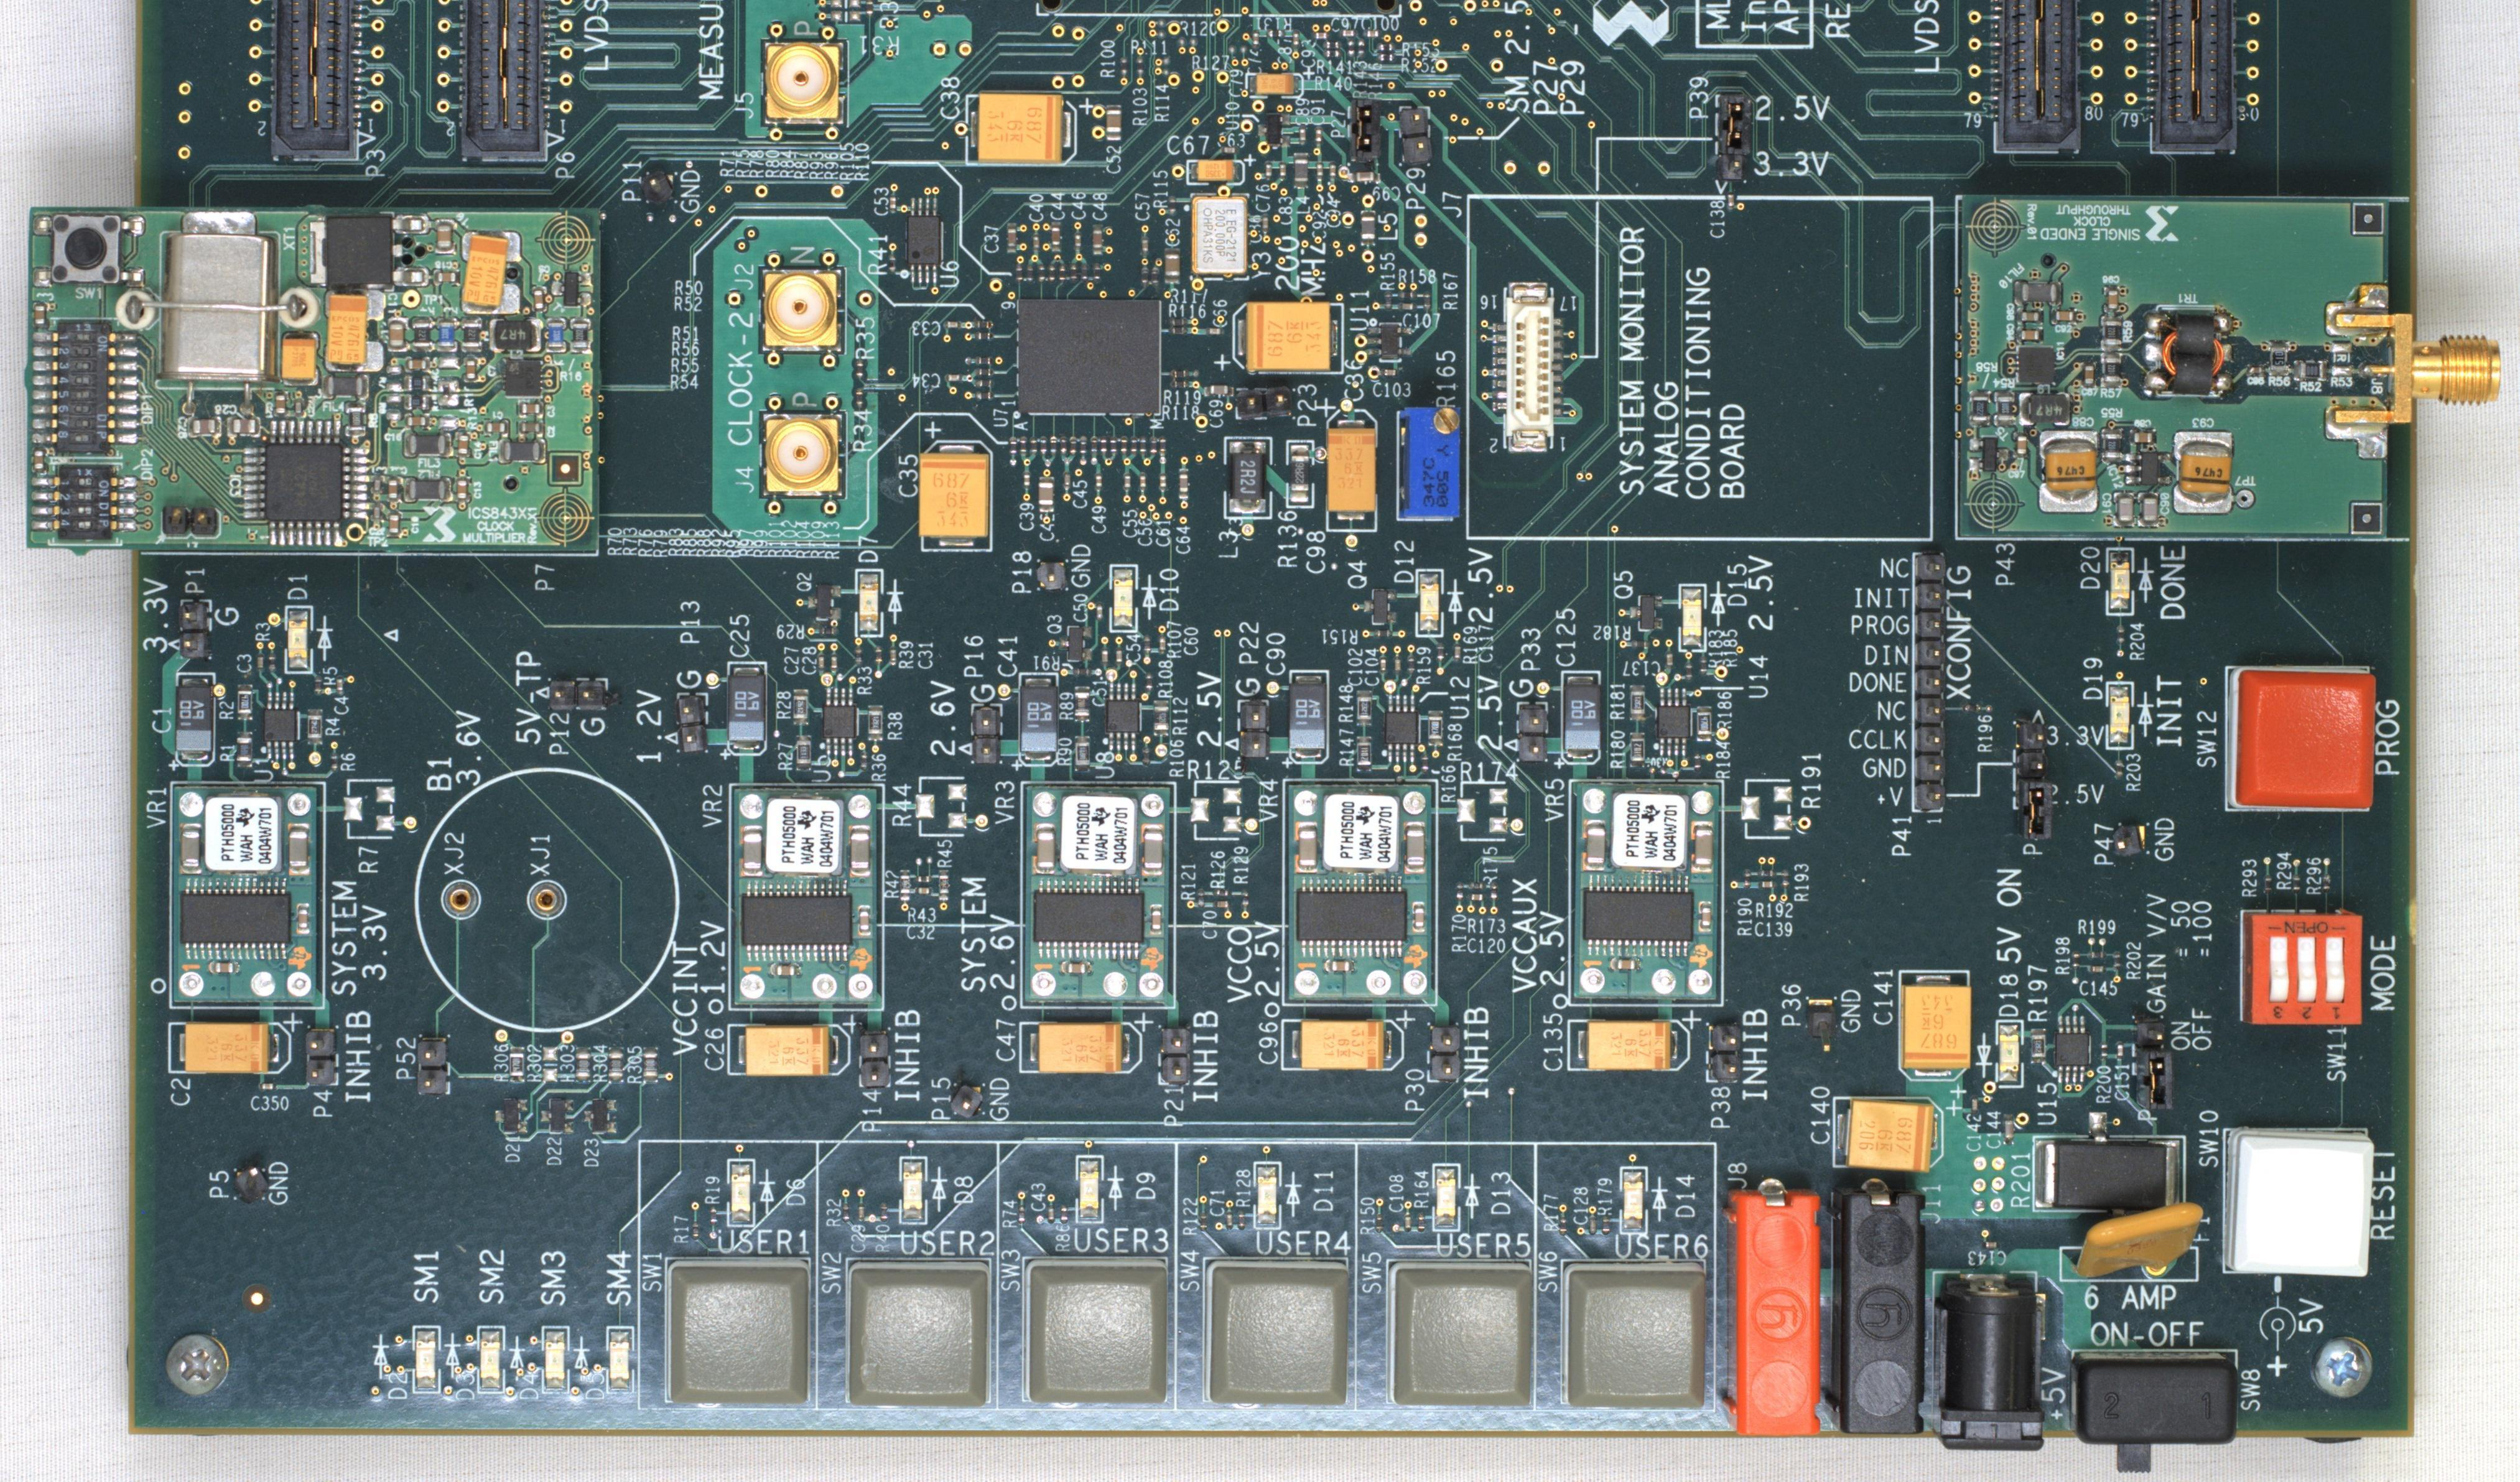Button: (2222, 1127, 2377, 1281), (2224, 665, 2377, 815), (1558, 1256, 1706, 1408), (1020, 1254, 1168, 1404), (1202, 1254, 1348, 1406), (664, 1256, 812, 1404), (845, 1256, 992, 1406), (1385, 1258, 1532, 1406), (32, 213, 145, 288)
Capacitor Jumper: (1140, 824, 1165, 875), (1403, 820, 1426, 875), (1691, 820, 1714, 873), (1583, 819, 1606, 870), (288, 824, 311, 875), (739, 826, 762, 877), (1032, 822, 1054, 875), (1295, 822, 1316, 873), (180, 824, 201, 875), (849, 826, 870, 877), (2112, 490, 2135, 528), (434, 219, 457, 254), (2137, 492, 2160, 528), (388, 316, 409, 353), (189, 415, 222, 438), (226, 416, 259, 438), (1105, 104, 1122, 141), (1163, 249, 1181, 284), (1038, 475, 1054, 513), (1324, 958, 1355, 974), (208, 960, 240, 976), (769, 962, 801, 977), (2102, 286, 2119, 314), (2015, 326, 2044, 344), (2012, 430, 2029, 459), (531, 286, 549, 312), (2015, 307, 2042, 325), (517, 400, 544, 418), (1698, 900, 1712, 932), (1149, 902, 1163, 933), (296, 903, 311, 935), (1059, 962, 1091, 976), (1348, 171, 1380, 185), (32, 446, 48, 475), (434, 270, 459, 288), (484, 420, 508, 438), (858, 905, 872, 935), (2051, 309, 2077, 325), (464, 356, 480, 383), (2081, 362, 2096, 388), (404, 413, 431, 429), (517, 420, 544, 436), (386, 512, 402, 538), (1611, 958, 1639, 972), (275, 390, 289, 418), (455, 430, 469, 459), (386, 476, 401, 505), (455, 476, 469, 505), (1414, 902, 1426, 933), (1050, 221, 1062, 252), (406, 356, 431, 372), (34, 302, 48, 328), (2130, 430, 2156, 445), (1204, 385, 1234, 397), (2003, 1113, 2014, 1145), (1006, 222, 1016, 254), (1092, 224, 1103, 256), (1179, 469, 1189, 499), (371, 475, 383, 494), (371, 501, 383, 520), (1313, 125, 1324, 146), (258, 1082, 277, 1092), (295, 399, 305, 418), (1158, 633, 1166, 656), (1452, 642, 1461, 663), (335, 674, 344, 695), (1969, 1094, 1978, 1115), (1588, 1214, 1597, 1235), (1982, 1240, 1999, 1251), (1278, 161, 1286, 182), (1264, 161, 1272, 182), (1073, 231, 1082, 252), (2246, 365, 2264, 376), (944, 372, 962, 383), (1664, 651, 1673, 670), (829, 653, 838, 672), (256, 653, 265, 672), (1392, 656, 1401, 676), (1758, 880, 1777, 889), (1466, 893, 1486, 902), (1212, 900, 1232, 909), (858, 1201, 866, 1221), (1046, 1203, 1055, 1223), (1297, 125, 1306, 145), (1726, 191, 1735, 210), (1380, 369, 1399, 378), (1062, 471, 1071, 490), (1122, 473, 1131, 492), (1219, 146, 1237, 155), (1140, 238, 1149, 256), (1362, 28, 1380, 37), (1339, 30, 1357, 39), (1292, 30, 1301, 48), (1138, 473, 1147, 490), (1094, 473, 1103, 490), (1158, 473, 1166, 490), (889, 646, 896, 667), (2086, 965, 2107, 972), (1226, 1210, 1234, 1231), (1405, 1212, 1412, 1233), (1316, 161, 1324, 182), (1262, 213, 1269, 235), (1032, 231, 1039, 252), (1398, 303, 1419, 311), (1313, 30, 1329, 39), (1251, 30, 1260, 46), (1115, 646, 1122, 665), (1101, 647, 1108, 667), (817, 653, 824, 672), (1380, 656, 1387, 676), (912, 887, 932, 894), (2116, 1041, 2123, 1060), (1329, 161, 1336, 180), (889, 194, 896, 213), (1024, 469, 1031, 489), (1096, 602, 1103, 621), (942, 321, 960, 328), (1205, 328, 1223, 335)
Clock: (159, 210, 282, 416), (1189, 192, 1249, 281)
Connector: (2324, 281, 2504, 464), (1826, 1175, 1925, 1434), (1722, 1179, 1821, 1436), (1931, 1269, 2045, 1452), (1493, 282, 1564, 453), (1911, 552, 1945, 813), (759, 263, 847, 356), (759, 409, 847, 499), (761, 39, 849, 127), (1398, 106, 1435, 168), (547, 677, 611, 713), (674, 692, 709, 755), (178, 598, 214, 660), (1235, 699, 1271, 760), (971, 702, 1004, 764), (1158, 1025, 1191, 1087), (161, 506, 222, 540), (1706, 1025, 1742, 1083), (307, 1029, 342, 1087), (1428, 1022, 1461, 1082), (1516, 700, 1548, 762), (2015, 720, 2049, 778), (858, 1030, 891, 1089), (1235, 386, 1294, 420), (418, 1037, 450, 1096), (1805, 999, 1837, 1055), (642, 169, 678, 206), (949, 1083, 983, 1120), (235, 1166, 266, 1203), (2114, 824, 2146, 857), (2134, 1016, 2165, 1050), (1038, 559, 1068, 593), (1719, 153, 1749, 183)
Diode: (540, 1099, 574, 1136), (584, 1099, 618, 1136), (496, 1099, 528, 1136)
EM: (404, 432, 455, 460), (402, 476, 454, 503), (321, 372, 369, 400), (2014, 281, 2063, 307), (498, 438, 545, 464)
Electrolytic Capacitor: (1832, 1096, 1945, 1175), (918, 439, 994, 552), (1232, 302, 1345, 376), (1897, 970, 1971, 1082), (965, 94, 1078, 166), (725, 1023, 852, 1078), (1279, 1018, 1405, 1073), (1018, 1020, 1142, 1074), (1567, 1018, 1691, 1071), (171, 1022, 295, 1074), (1325, 409, 1378, 533), (2172, 430, 2232, 513), (462, 229, 521, 312), (325, 289, 383, 372), (2040, 430, 2098, 512), (1016, 672, 1061, 767), (1288, 669, 1331, 764), (1560, 670, 1602, 764), (727, 660, 768, 755), (175, 672, 215, 767), (282, 332, 319, 386), (1244, 72, 1304, 97), (1186, 161, 1244, 185)
IC: (1015, 298, 1161, 416), (242, 420, 367, 547), (180, 877, 291, 960), (1032, 877, 1144, 960), (741, 880, 852, 962), (1583, 875, 1692, 956), (1297, 875, 1406, 956), (907, 198, 939, 288), (1105, 681, 1142, 752), (822, 686, 859, 755), (1384, 695, 1421, 764), (1655, 688, 1692, 755), (2054, 1016, 2091, 1083), (265, 690, 300, 757), (1369, 321, 1412, 363), (499, 358, 544, 399), (2015, 344, 2056, 385), (2126, 452, 2172, 485), (1258, 111, 1290, 146)
Inductor: (1223, 436, 1274, 519), (491, 318, 542, 353), (2021, 392, 2070, 425), (1294, 152, 1309, 189), (1361, 210, 1376, 245)
Jumper: (2132, 1052, 2174, 1111), (2014, 780, 2052, 840), (1715, 94, 1751, 155), (1348, 101, 1382, 162)
Led: (898, 1156, 930, 1226), (1676, 582, 1708, 653), (476, 1323, 506, 1396), (1415, 566, 1445, 639), (854, 566, 884, 639), (725, 1157, 757, 1224), (284, 603, 314, 674), (1075, 1154, 1105, 1224), (540, 1323, 570, 1394), (605, 1323, 635, 1394), (411, 1323, 441, 1394), (1108, 563, 1138, 633), (2105, 681, 2135, 750), (1253, 1161, 1283, 1230), (1431, 1163, 1461, 1231), (1620, 1164, 1648, 1235), (2105, 547, 2134, 616), (1999, 1020, 2024, 1089)
Pads: (342, 778, 397, 842), (1740, 778, 1795, 842), (1189, 778, 1244, 842), (916, 775, 967, 836), (1458, 782, 1509, 842), (436, 356, 461, 392), (2331, 341, 2352, 376), (439, 397, 461, 430), (544, 1044, 559, 1083), (386, 363, 404, 392), (385, 393, 402, 420), (1225, 42, 1248, 56), (1156, 18, 1166, 39), (1177, 37, 1198, 46), (1161, 56, 1170, 76)
Pins: (1969, 1154, 2006, 1219)
Resistor Jumper: (2031, 1111, 2188, 1214), (1285, 439, 1315, 508), (411, 316, 434, 353), (2268, 341, 2291, 376), (1992, 390, 2015, 425), (570, 318, 591, 355), (1969, 390, 1991, 427), (2100, 316, 2121, 351), (462, 318, 484, 353), (2100, 351, 2121, 386), (2294, 360, 2329, 381), (2102, 429, 2123, 464), (547, 318, 566, 355), (438, 318, 457, 353), (346, 400, 365, 436), (1073, 736, 1091, 773), (607, 1046, 625, 1083), (641, 1046, 658, 1083), (1355, 690, 1373, 725), (1152, 700, 1170, 736), (866, 704, 884, 739), (236, 685, 252, 722), (1629, 685, 1645, 722), (1073, 686, 1089, 723), (792, 688, 808, 725), (1428, 709, 1444, 746), (307, 709, 323, 746), (508, 1046, 524, 1083), (1696, 706, 1712, 741), (236, 732, 252, 767), (796, 736, 812, 771), (575, 1048, 591, 1083), (2031, 1027, 2045, 1066), (1631, 734, 1645, 769), (1357, 736, 1371, 771), (404, 393, 431, 411), (404, 376, 431, 392), (939, 868, 949, 900), (900, 870, 909, 902), (854, 358, 865, 381), (1135, 56, 1145, 78), (2114, 759, 2125, 780), (819, 626, 838, 637), (879, 1201, 889, 1221), (1008, 436, 1018, 455), (266, 651, 275, 674), (1417, 1210, 1426, 1233), (1069, 261, 1078, 284), (1080, 263, 1089, 286), (1142, 633, 1151, 655), (314, 674, 323, 695), (859, 750, 868, 771), (330, 752, 339, 773), (2112, 951, 2121, 972), (1375, 1212, 1384, 1233), (1558, 1214, 1567, 1235), (1025, 263, 1034, 284), (1092, 263, 1101, 284), (1170, 369, 1188, 379), (974, 379, 995, 388), (976, 390, 994, 400), (1324, 39, 1341, 49), (1059, 434, 1068, 455), (1373, 630, 1392, 639), (2116, 625, 2125, 644), (1421, 753, 1429, 773), (2292, 875, 2301, 894), (2264, 875, 2273, 894), (1196, 889, 1205, 909), (2072, 951, 2081, 970), (842, 1203, 851, 1223), (1237, 1210, 1246, 1230), (1198, 1212, 1207, 1231), (1601, 1216, 1609, 1235), (1151, 266, 1159, 286), (1398, 291, 1417, 300), (1168, 318, 1188, 326), (1265, 28, 1285, 37), (974, 319, 994, 328), (974, 332, 994, 341), (974, 356, 994, 365), (1170, 379, 1189, 388), (854, 388, 863, 408), (1149, 436, 1158, 455), (1078, 436, 1087, 455), (1029, 436, 1038, 455), (1376, 42, 1396, 51), (1322, 49, 1341, 58), (1376, 53, 1396, 62), (1468, 880, 1484, 891), (1631, 640, 1648, 649), (854, 646, 863, 663), (1073, 667, 1091, 676), (1964, 704, 1982, 713), (1758, 868, 1775, 877), (914, 875, 932, 884), (2088, 951, 2105, 960), (1015, 265, 1024, 282), (976, 367, 994, 376), (1406, 653, 1414, 674), (1121, 56, 1128, 78), (1744, 868, 1751, 889), (2322, 873, 2329, 894), (1211, 889, 1232, 896), (2100, 1041, 2107, 1062), (709, 1205, 716, 1226), (1038, 263, 1045, 284), (1142, 266, 1149, 288), (1131, 434, 1138, 455), (1121, 436, 1128, 457), (1020, 436, 1027, 457), (1355, 41, 1364, 56), (1436, 642, 1444, 662), (1699, 656, 1706, 676), (1685, 662, 1692, 681), (1145, 672, 1152, 692), (1456, 880, 1463, 900), (1242, 889, 1249, 909), (1061, 1203, 1068, 1223), (1018, 1205, 1025, 1224), (692, 1221, 699, 1240), (1168, 196, 1175, 215), (1048, 263, 1055, 282), (1059, 263, 1066, 282), (1385, 291, 1392, 311), (1424, 291, 1431, 311), (1168, 328, 1188, 335), (1099, 436, 1106, 455), (1039, 436, 1046, 455), (1110, 436, 1117, 455), (1091, 436, 1098, 455), (1159, 436, 1166, 455), (1050, 436, 1057, 455), (1069, 436, 1076, 455), (1138, 436, 1145, 455), (875, 646, 882, 663), (1144, 748, 1151, 766), (1694, 753, 1701, 771), (1489, 882, 1496, 900), (1348, 41, 1355, 58), (1782, 870, 1788, 887)
Switch: (2070, 1351, 2239, 1475), (2239, 909, 2365, 1025), (32, 323, 138, 457), (34, 462, 138, 545)
Test Point: (438, 877, 484, 919), (524, 879, 570, 921), (402, 289, 422, 311), (2236, 489, 2257, 508), (346, 522, 365, 543)
Transistor: (309, 210, 431, 289), (1969, 434, 2008, 473), (552, 272, 593, 307), (1059, 625, 1092, 663), (808, 584, 842, 621), (1631, 595, 1664, 630), (1366, 588, 1396, 626)
